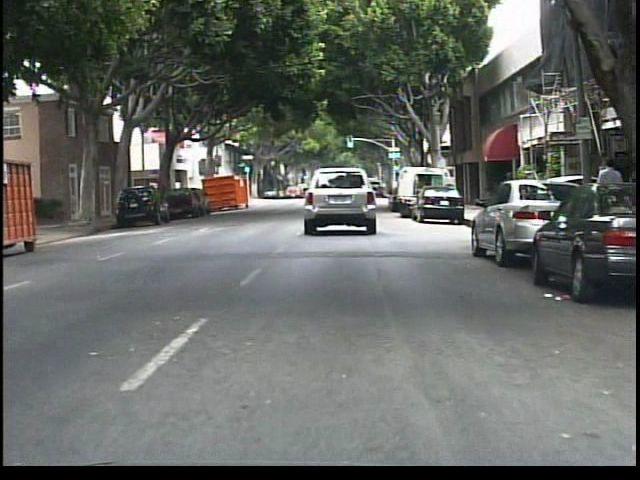person: (590, 151, 627, 247)
